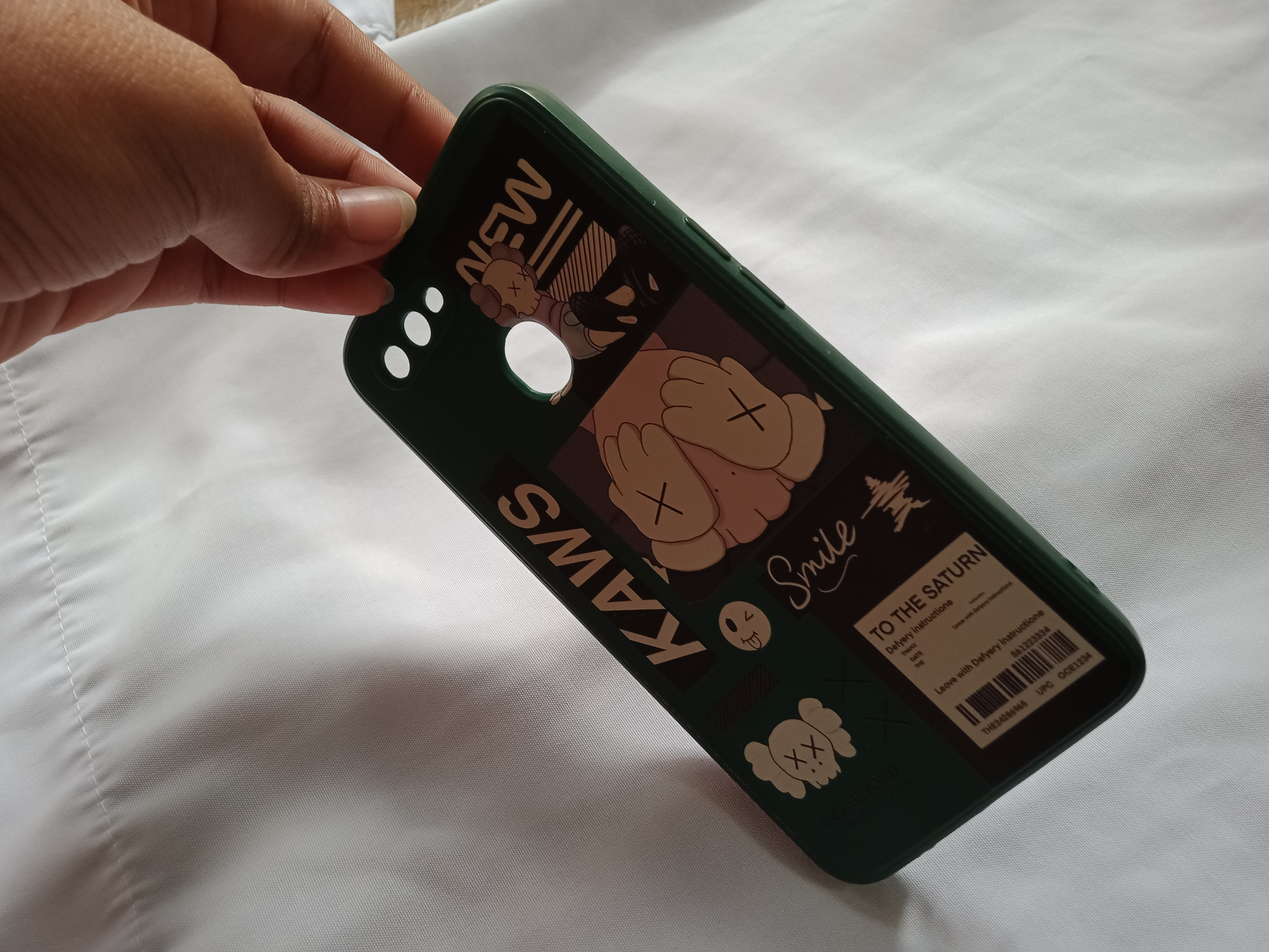plastic: (326, 73, 1193, 925)
